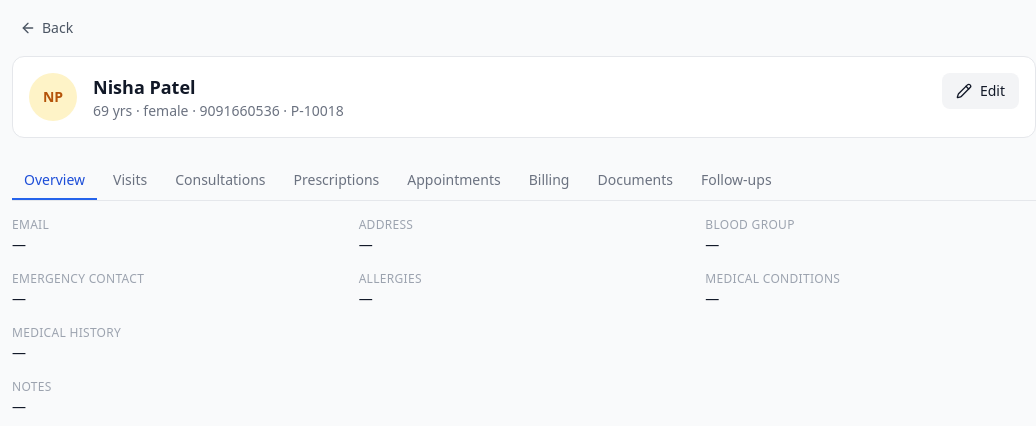
it: Patient profile - Visits tab › shows the front desk that a consultation happened, without opening it
The width and height of the screenshot is (1036, 426).
Click the tab "Visits".
click(130, 181)  # box [101,162,159,200]
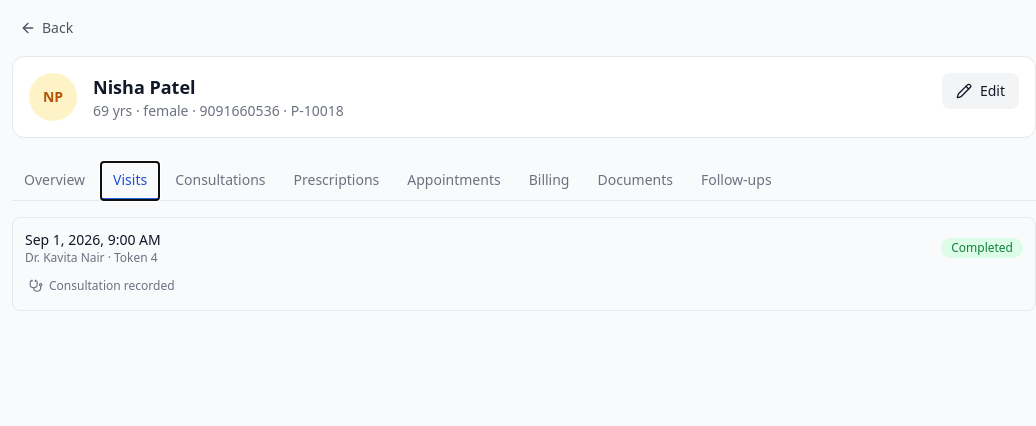
Now the text "Consultation recorded" is shown, box [25,274,179,298]
